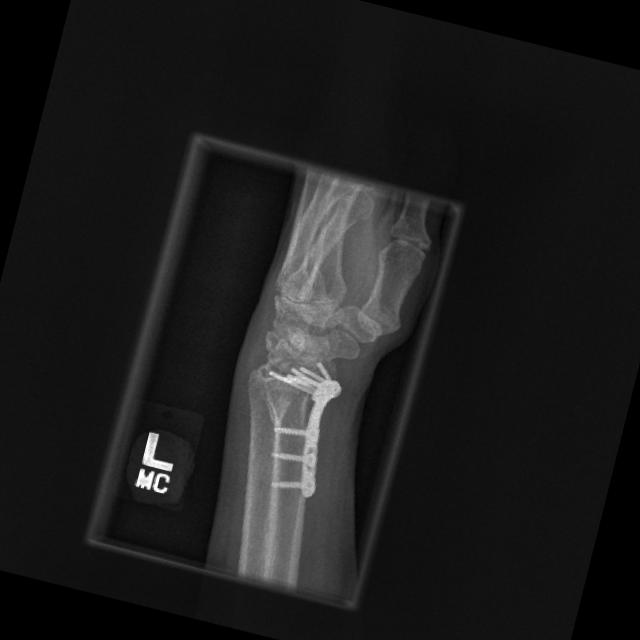fingers positive: (223, 349, 348, 459)
